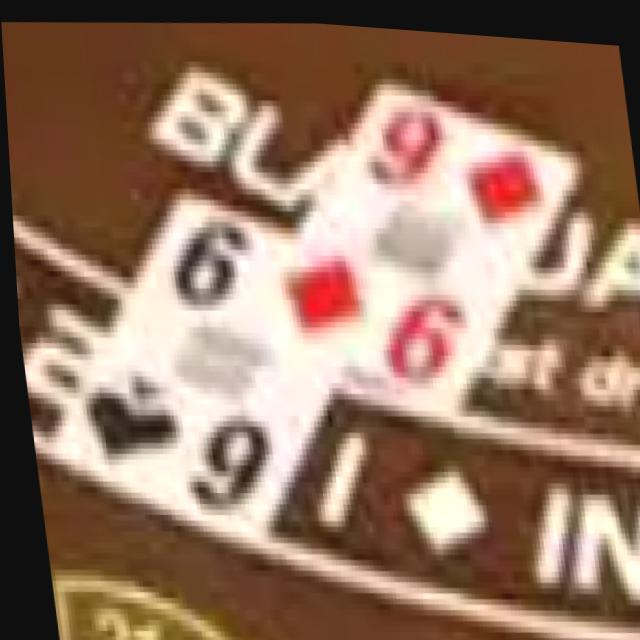Card-6: (45, 189, 330, 539)
Card-9: (242, 69, 580, 408)
